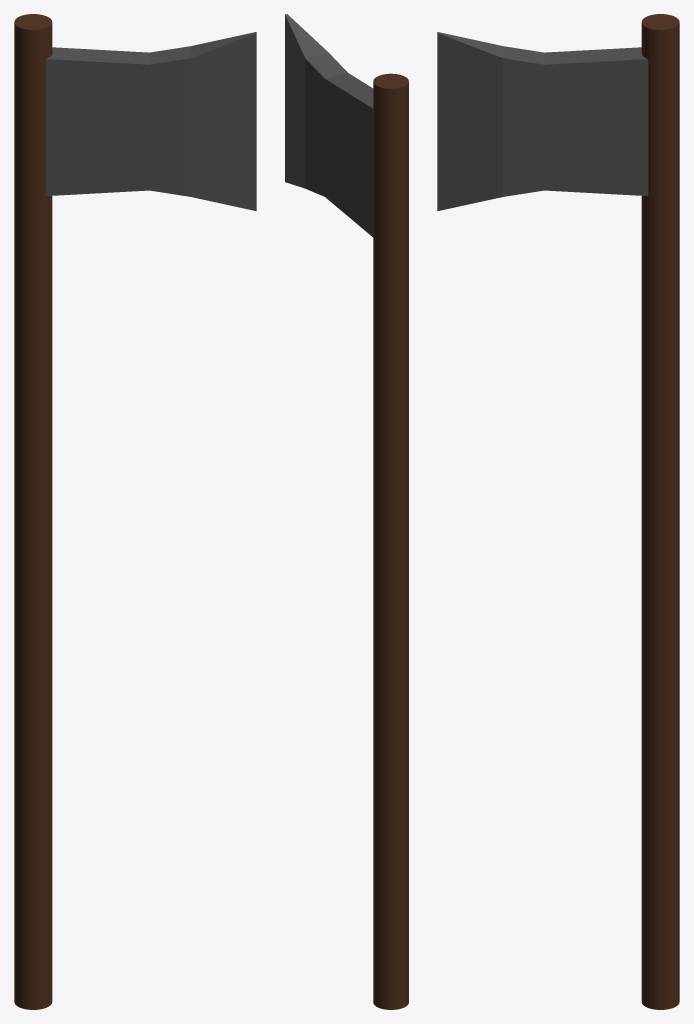
File: axe.glb
3 renders of one model, left to right at view 1: azimuth 90°, elevation 25°; view 2: azimuth 210°, elevation 25°; view 3: azimuth 270°, elevation 25°, orthographic. The views are drawn at different scales.
Visible parts, largest first — view 1: Cylinder, Cube; view 2: Cylinder, Cube; view 3: Cylinder, Cube.
Boxes of the visible parts, bbox=[...] form: Cylinder: bbox=[14, 14, 52, 1009]; Cube: bbox=[45, 32, 256, 211]; Cylinder: bbox=[373, 73, 408, 1009]; Cube: bbox=[285, 14, 373, 237]; Cylinder: bbox=[641, 14, 679, 1009]; Cube: bbox=[437, 32, 648, 211].
Bounding box in the file's own units: 0.3349 × 9.54 × 2.14.
